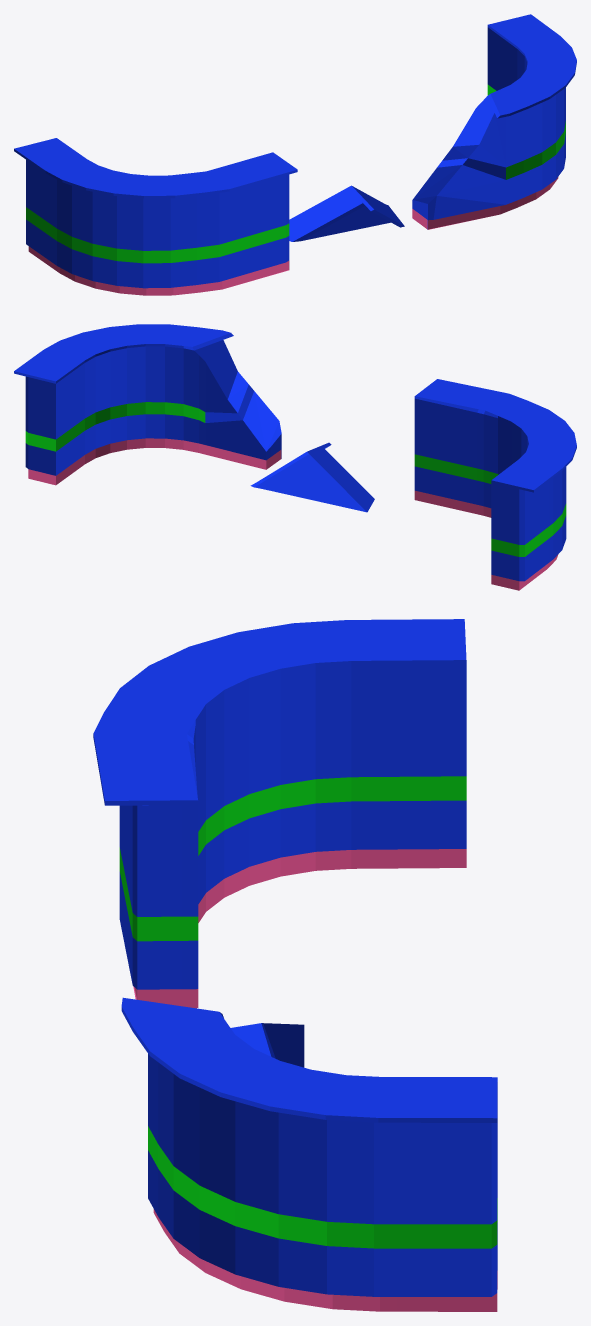
The model's file is ComptoirAccueil.FBX.
3 renders of one model, top to bottom at view 1: azimuth 30°, elevation 25°; view 2: azimuth 150°, elevation 25°; view 3: azimuth 270°, elevation 25°, orthographic. The views are drawn at different scales.
Visible parts, largest first — view 1: Cube.039; view 2: Cube.039; view 3: Cube.039.
Boxes of the visible parts, bbox=[...] form: Cube.039: bbox=[14, 14, 576, 295]; Cube.039: bbox=[14, 324, 576, 590]; Cube.039: bbox=[93, 619, 497, 1311].
Bounding box in the file's own units: 2094 × 409 × 716.
